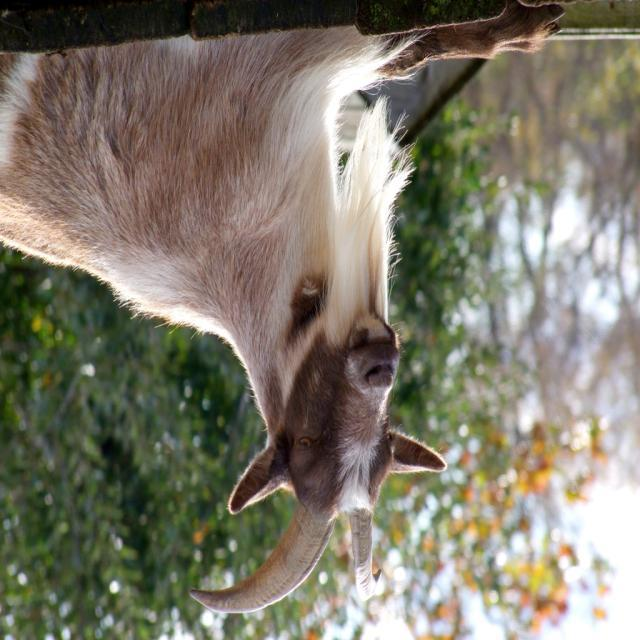Goat: (2, 3, 567, 615)
